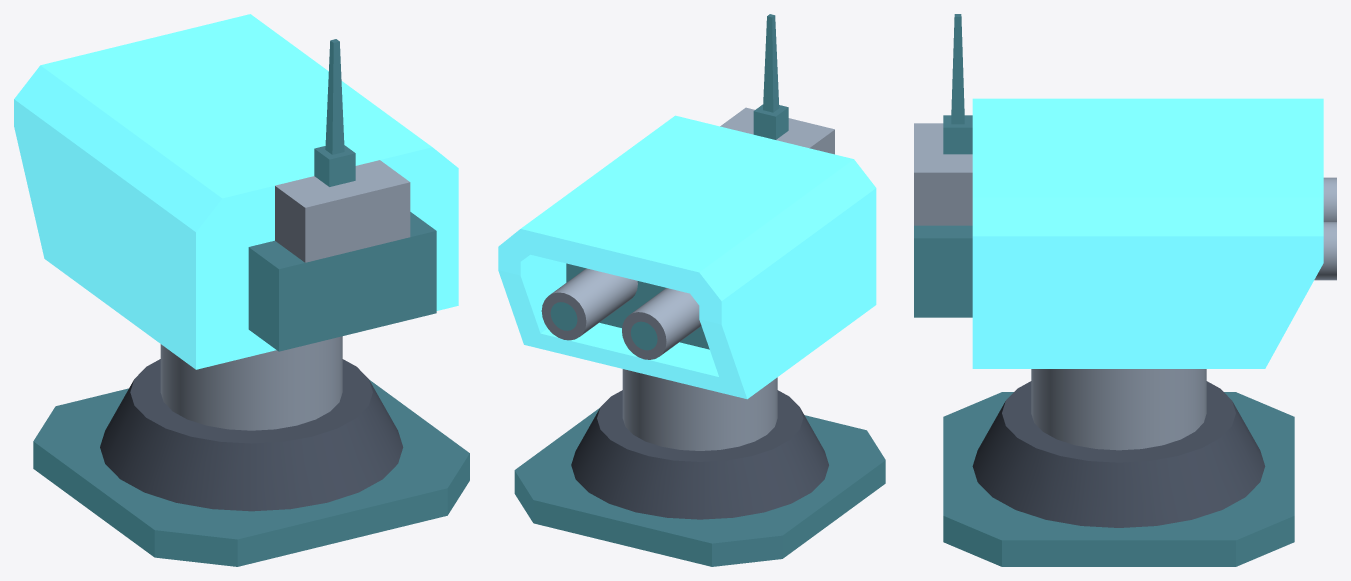
The model's file is turret_single.glb.
3 renders of one model, left to right at view 1: azimuth 30°, elevation 25°; view 2: azimuth 150°, elevation 25°; view 3: azimuth 270°, elevation 25°, orthographic. The views are drawn at different scales.
Parts seen in each view (by area): view 1: turret, turret_single; view 2: turret, turret_single, Group, Group.001; view 3: turret, turret_single, Group, Group.001.
Boxes of the visible parts, <box> form: turret: <box>14,14,458,369</box>; turret_single: <box>33,336,469,566</box>; turret: <box>498,14,876,399</box>; turret_single: <box>514,369,885,566</box>; Group: <box>541,268,637,340</box>; Group.001: <box>622,288,701,359</box>; turret: <box>914,14,1323,368</box>; turret_single: <box>943,369,1294,566</box>; Group: <box>1314,222,1336,280</box>; Group.001: <box>1323,177,1336,221</box>.
Size of the model in its own units: 0.6 by 0.9 by 0.7224.
